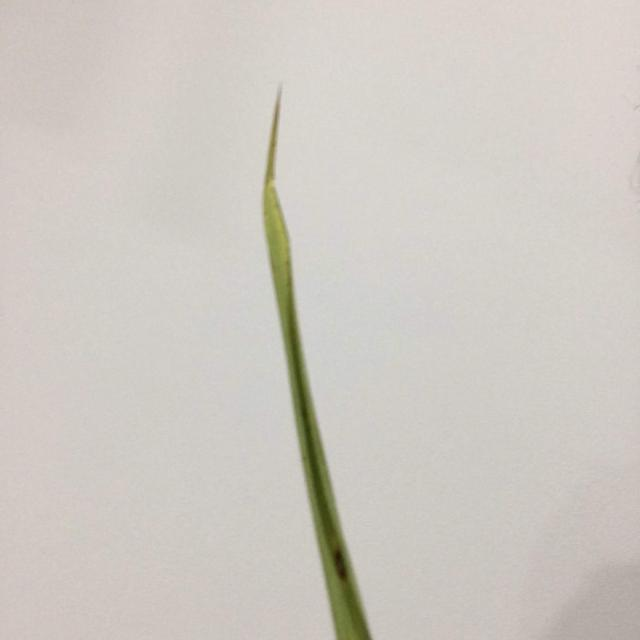Blast: (333, 548, 356, 592)
